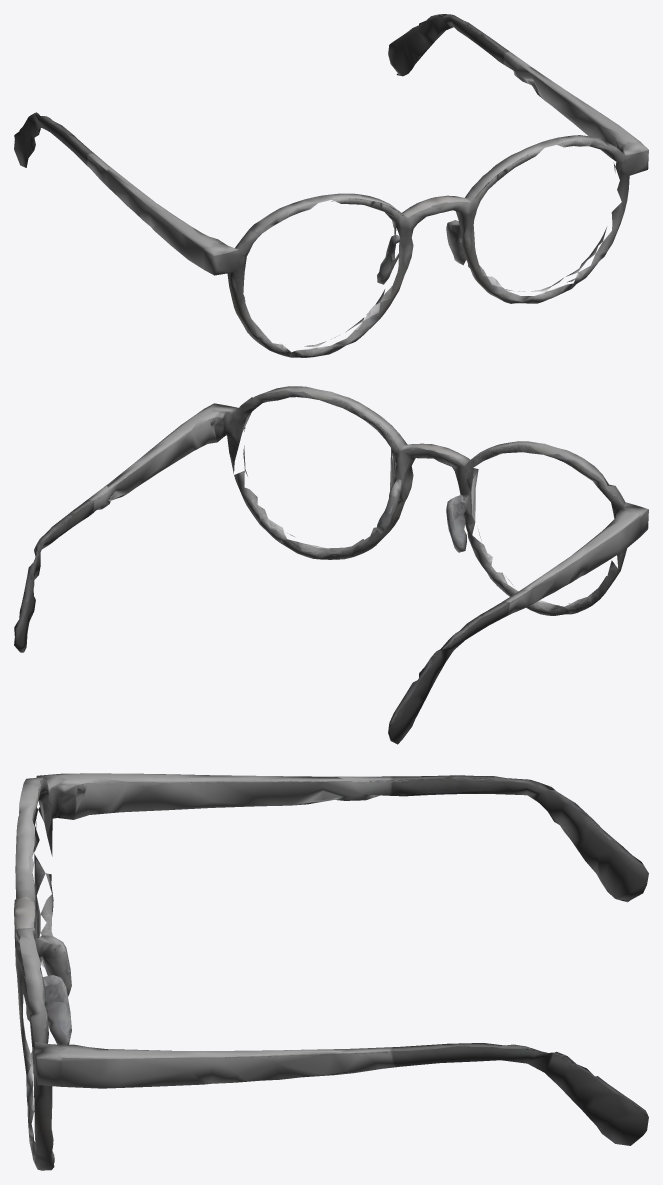
File: head_accessory.glb
3 views of the same model, one above another, from view 1: azimuth 30°, elevation 25°; view 2: azimuth 150°, elevation 25°; view 3: azimuth 270°, elevation 25° (orthographic). The views are drawn at different scales.
Visible parts, largest first — view 1: geometry_0_007; view 2: geometry_0_007; view 3: geometry_0_007.
Part boxes in pixels (x1,y1,x2,y2): geometry_0_007: (14,14,648,357); geometry_0_007: (14,386,648,744); geometry_0_007: (14,773,648,1170).
Bounding box in the file's own units: 0.7667 × 0.2704 × 0.7202.
Materials: 1 (1 with a texture image).
